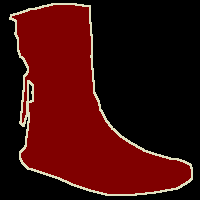shoe: (10, 3, 192, 195)
